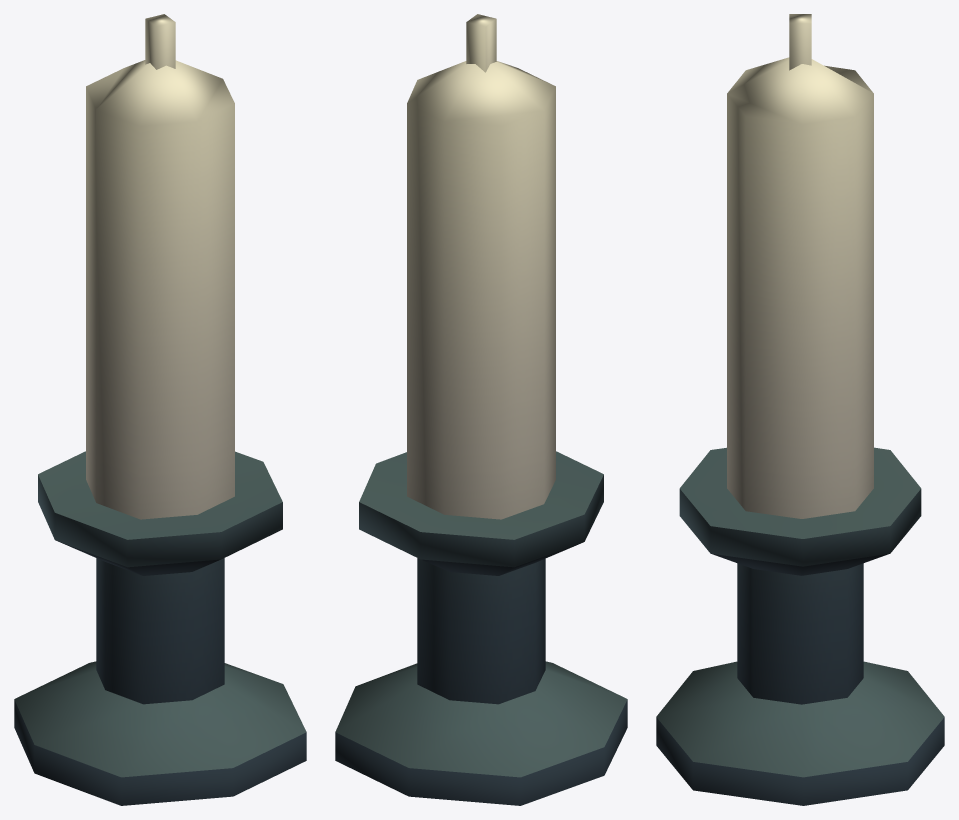
File: candle_new.fbx
3 renders of one model, left to right at view 1: azimuth 30°, elevation 25°; view 2: azimuth 150°, elevation 25°; view 3: azimuth 270°, elevation 25°, orthographic.
Visible parts, largest first — view 1: candle_new; view 2: candle_new; view 3: candle_new.
Boxes of the visible parts, left/top/right/bottom form: candle_new: left=14, top=14, right=306, bottom=805; candle_new: left=335, top=14, right=627, bottom=805; candle_new: left=656, top=14, right=944, bottom=805.
Size of the model in its own units: 18.35 by 50.95 by 18.35.
